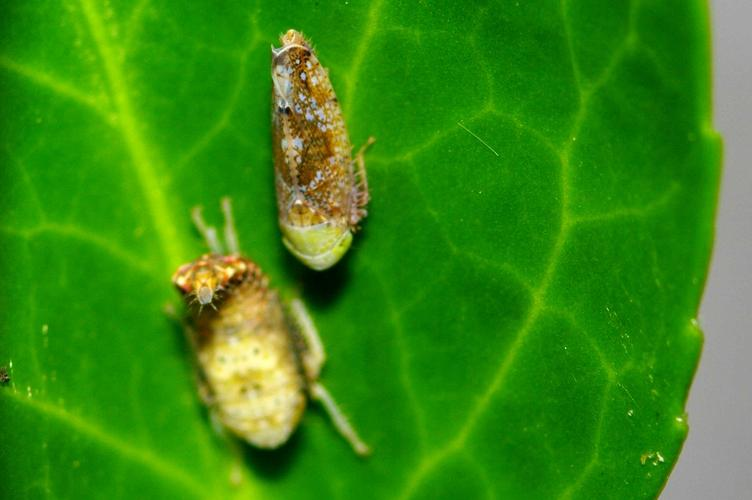Cicadellidae: (168, 255, 324, 452), (267, 29, 369, 272)
